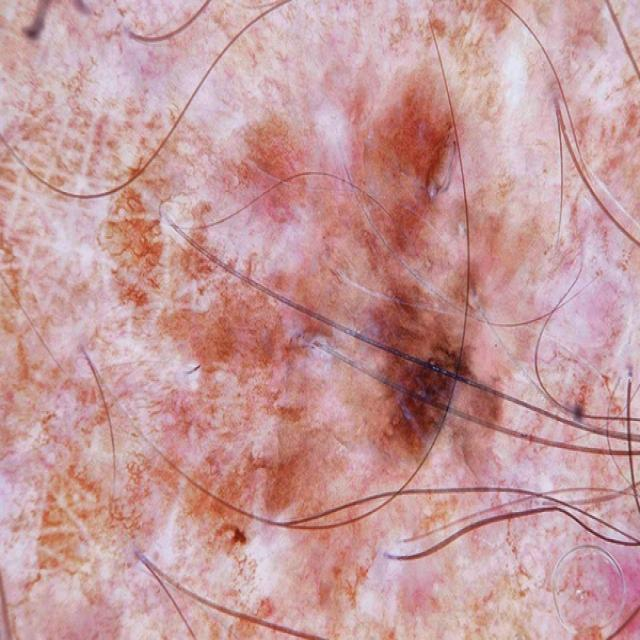Benign-Keratosis-like-Lesions-BKL-: (51, 57, 556, 622)
